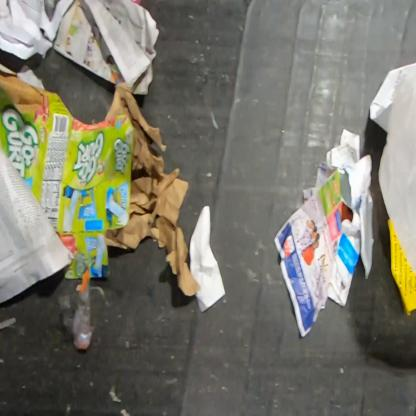cardboard: (0, 63, 136, 280), (0, 0, 54, 61)
soft_plastic: (377, 69, 415, 274), (70, 265, 96, 352)
